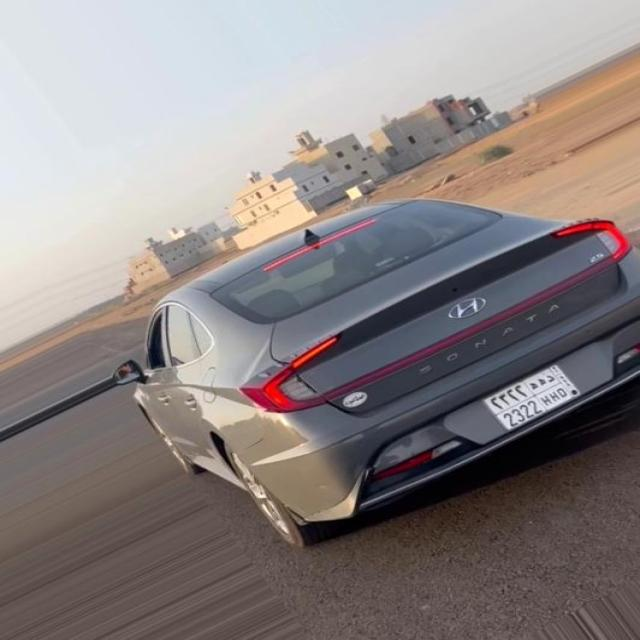Car-plate: (462, 357, 594, 442)
